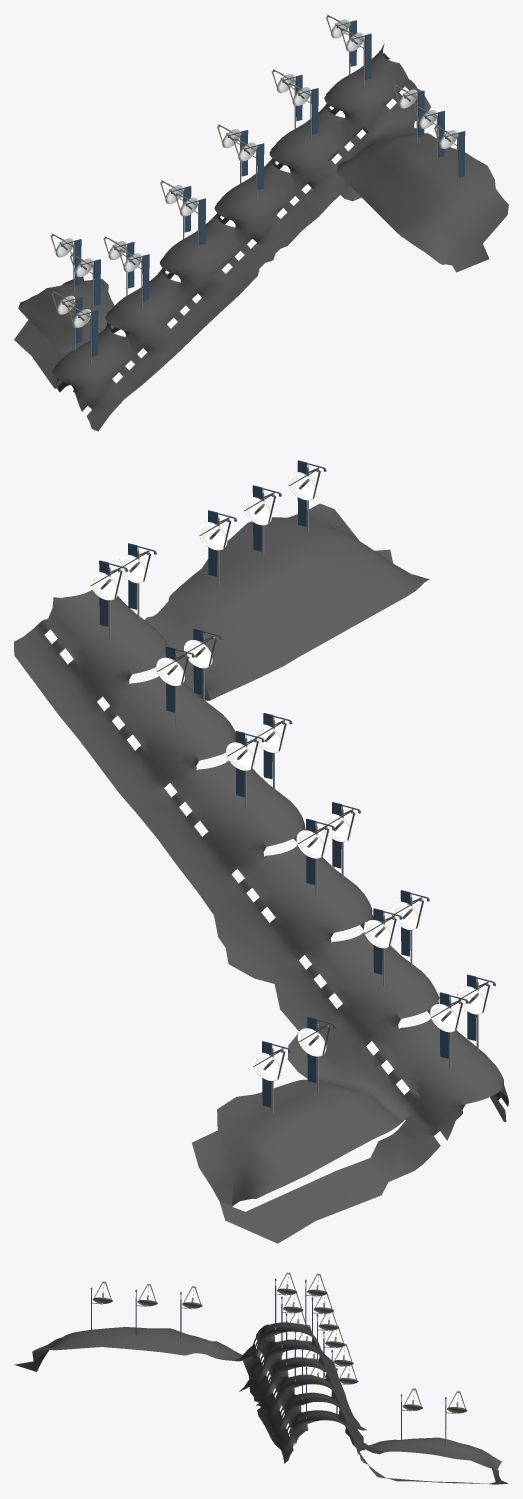
Rendered from Overlay_1stGal_Middle.glb.
3 renders of one model, top to bottom at view 1: azimuth 30°, elevation 25°; view 2: azimuth 150°, elevation 25°; view 3: azimuth 270°, elevation 25°, orthographic. The views are drawn at different scales.
Visible parts, largest first — view 1: Overlay_1stGal_Middle, 1stGal_Middle_LEDs, 1stGal_Middle_Mirrors, 1stGal_Middle_Bases; view 2: Overlay_1stGal_Middle, 1stGal_Middle_Mirrors, 1stGal_Middle_LEDs, 1stGal_Middle_Bases; view 3: Overlay_1stGal_Middle, 1stGal_Middle_Mirrors, 1stGal_Middle_LEDs, 1stGal_Middle_Bases.
Part boxes in pixels (x1,y1,x2,y2): Overlay_1stGal_Middle: (14,44,508,431); 1stGal_Middle_LEDs: (61,20,465,356); 1stGal_Middle_Mirrors: (50,14,458,327); 1stGal_Middle_Bases: (70,23,458,363); Overlay_1stGal_Middle: (14,503,508,1243); 1stGal_Middle_Mirrors: (89,467,490,1081); 1stGal_Middle_LEDs: (99,460,495,1107); 1stGal_Middle_Bases: (109,464,478,1114); Overlay_1stGal_Middle: (14,1322,507,1484); 1stGal_Middle_Mirrors: (92,1272,467,1413); 1stGal_Middle_LEDs: (90,1278,446,1442); 1stGal_Middle_Bases: (91,1286,455,1444).
Size of what is drawn, in the model's own units: 253 by 252 by 371.
